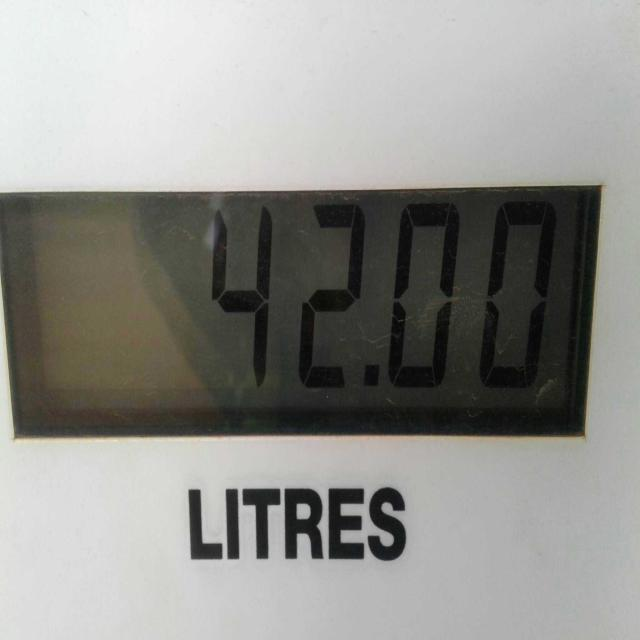.: (354, 346, 388, 408)
0: (472, 187, 563, 407), (390, 198, 476, 398)
2: (298, 197, 371, 400)
4: (180, 194, 290, 401)
